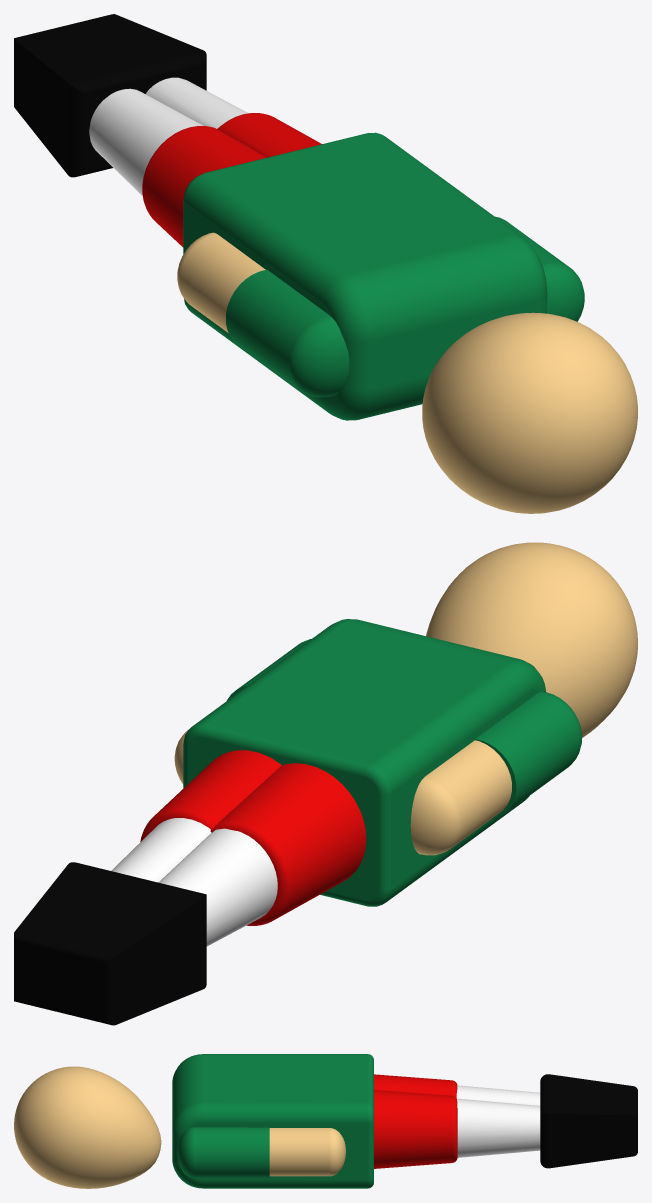
File: Jugador_1.fbx
3 views of the same model, one above another, from view 1: azimuth 30°, elevation 25°; view 2: azimuth 150°, elevation 25°; view 3: azimuth 270°, elevation 25° (orthographic). The views are drawn at different scales.
Parts seen in each view (by area): view 1: Objeto_1, Objeto_2, Objeto_3, Objeto_7, Objeto_5, Objeto_4, Objeto_8, Objeto_6; view 2: Objeto_1, Objeto_3, Objeto_2, Objeto_5, Objeto_4, Objeto_8, Objeto_7; view 3: Objeto_1, Objeto_2, Objeto_3, Objeto_5, Objeto_4, Objeto_6, Objeto_9.
Part boxes in pixels (x1=…): Objeto_1: x1=183, y1=132, x2=547, y2=420; Objeto_2: x1=422, y1=312, x2=637, y2=513; Objeto_3: x1=14, y1=14, x2=206, y2=177; Objeto_7: x1=226, y1=269, x2=349, y2=397; Objeto_5: x1=142, y1=113, x2=321, y2=247; Objeto_4: x1=89, y1=77, x2=248, y2=195; Objeto_8: x1=177, y1=232, x2=265, y2=332; Objeto_6: x1=495, y1=216, x2=584, y2=321; Objeto_1: x1=183, y1=619, x2=545, y2=906; Objeto_3: x1=14, y1=862, x2=206, y2=1025; Objeto_2: x1=426, y1=542, x2=637, y2=737; Objeto_5: x1=140, y1=750, x2=366, y2=925; Objeto_4: x1=111, y1=818, x2=277, y2=946; Objeto_8: x1=410, y1=740, x2=511, y2=855; Objeto_7: x1=475, y1=691, x2=582, y2=818; Objeto_1: x1=172, y1=1054, x2=373, y2=1188; Objeto_2: x1=14, y1=1066, x2=161, y2=1188; Objeto_3: x1=540, y1=1074, x2=637, y2=1168; Objeto_5: x1=374, y1=1074, x2=457, y2=1168; Objeto_4: x1=456, y1=1085, x2=540, y2=1157; Objeto_6: x1=177, y1=1127, x2=269, y2=1177; Objeto_9: x1=269, y1=1128, x2=345, y2=1176.
Bounding box in the file's own units: 12.98 × 7.86 × 40.19.
